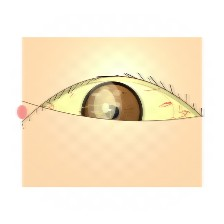corneal_ulcer: (78, 84, 132, 128)
